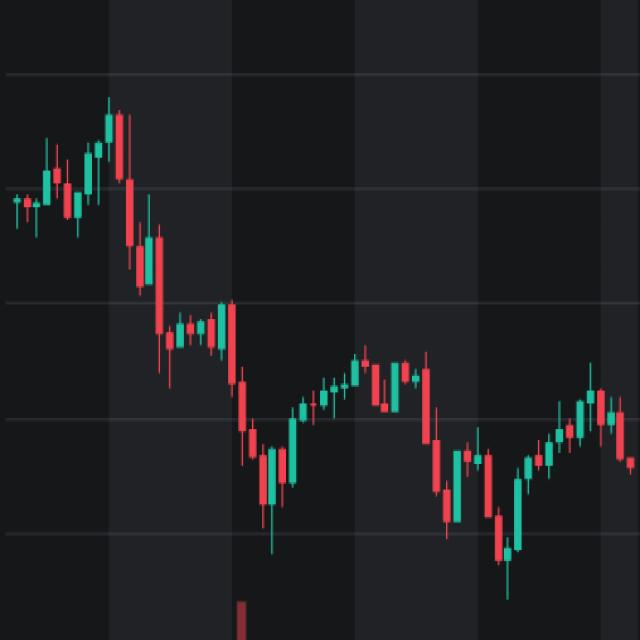Resistance-Emerging: (164, 292, 640, 585)
